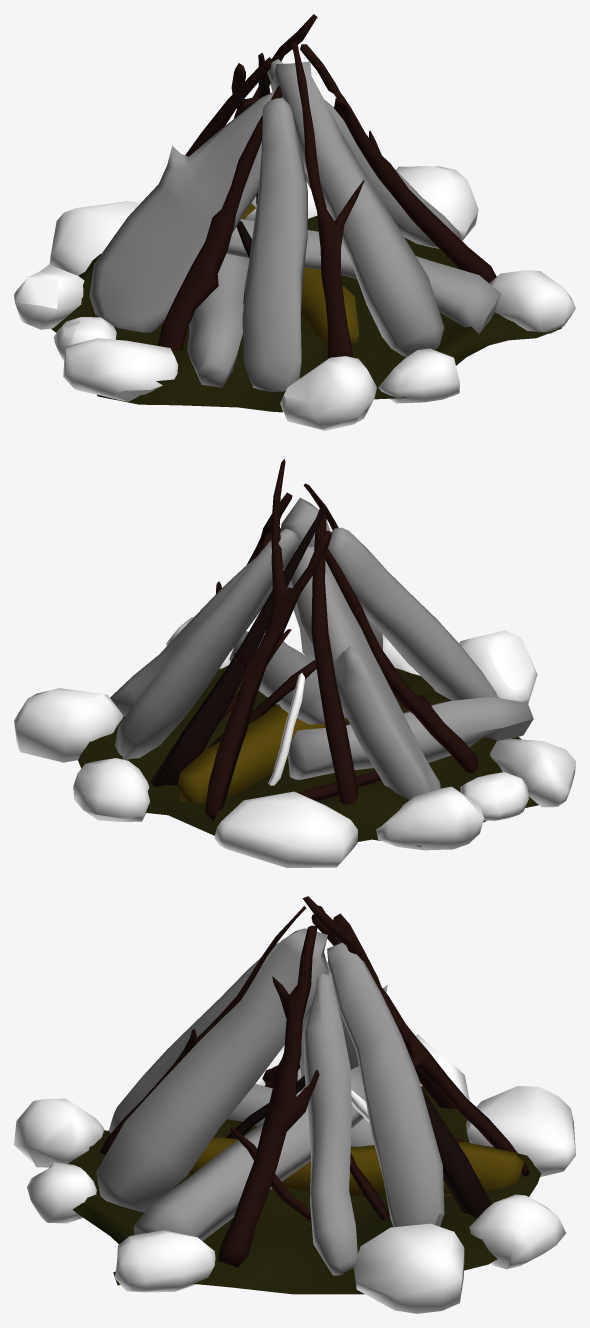
The model's file is fogat.obj.
The picture shows the model from 3 angles, top to bottom: view 1: azimuth 30°, elevation 25°; view 2: azimuth 150°, elevation 25°; view 3: azimuth 270°, elevation 25°; orthographic projection. The views are drawn at different scales.
Parts seen in each view (by area): view 1: Campfire polySurface15, Campfire polySurface23, Campfire polySurface28, Campfire polySurface13, Campfire polySurface18, Campfire polySurface14, Campfire polySurface12, Campfire polySurface11, Campfire polySurface27, Campfire polySurface29, Campfire polySurface9, Campfire polySurface26 (+9 smaller); view 2: Campfire polySurface13, Campfire polySurface15, Campfire polySurface21, Campfire polySurface28, Campfire polySurface26, Campfire polySurface12, Campfire polySurface24, Campfire polySurface17, Campfire polySurface4, Campfire polySurface16, Campfire polySurface3, Campfire polySurface7 (+12 smaller); view 3: Campfire polySurface23, Campfire polySurface13, Campfire polySurface21, polySurface1 Campfire, Campfire polySurface9, Campfire polySurface29, Campfire polySurface17, Campfire polySurface26, Campfire polySurface20, Campfire polySurface25, Campfire polySurface11, Campfire polySurface7 (+12 smaller).
Boxes of the visible parts, <box> form: Campfire polySurface15: <box>89,92,274,332</box>; Campfire polySurface23: <box>272,61,444,357</box>; Campfire polySurface28: <box>242,98,307,392</box>; Campfire polySurface13: <box>51,216,561,412</box>; Campfire polySurface18: <box>63,338,178,401</box>; Campfire polySurface14: <box>157,86,282,350</box>; Campfire polySurface12: <box>187,253,249,387</box>; Campfire polySurface11: <box>280,356,376,430</box>; Campfire polySurface27: <box>291,41,364,358</box>; Campfire polySurface29: <box>300,44,496,283</box>; Campfire polySurface9: <box>226,219,501,333</box>; Campfire polySurface26: <box>49,201,139,275</box>; Campfire polySurface13: <box>78,665,538,846</box>; Campfire polySurface15: <box>288,546,440,799</box>; Campfire polySurface21: <box>115,528,299,759</box>; Campfire polySurface28: <box>327,527,497,700</box>; Campfire polySurface26: <box>214,791,357,867</box>; Campfire polySurface12: <box>288,697,533,779</box>; Campfire polySurface24: <box>204,459,331,820</box>; Campfire polySurface17: <box>14,688,123,762</box>; Campfire polySurface4: <box>150,506,326,786</box>; Campfire polySurface16: <box>376,786,484,850</box>; Campfire polySurface3: <box>311,508,358,804</box>; Campfire polySurface7: <box>178,695,394,803</box>; Campfire polySurface23: <box>96,928,328,1212</box>; Campfire polySurface13: <box>67,1086,541,1294</box>; Campfire polySurface21: <box>327,942,444,1226</box>; polySurface1 Campfire: <box>303,972,357,1275</box>; Campfire polySurface9: <box>133,1066,365,1240</box>; Campfire polySurface29: <box>217,925,319,1267</box>; Campfire polySurface17: <box>353,1223,464,1313</box>; Campfire polySurface26: <box>466,1086,575,1176</box>; Campfire polySurface20: <box>115,1230,215,1292</box>; Campfire polySurface25: <box>469,1194,565,1269</box>; Campfire polySurface11: <box>14,1098,104,1167</box>; Campfire polySurface7: <box>188,1137,523,1196</box>.
Size of the model in its own units: 97.99 by 60.11 by 94.05.
